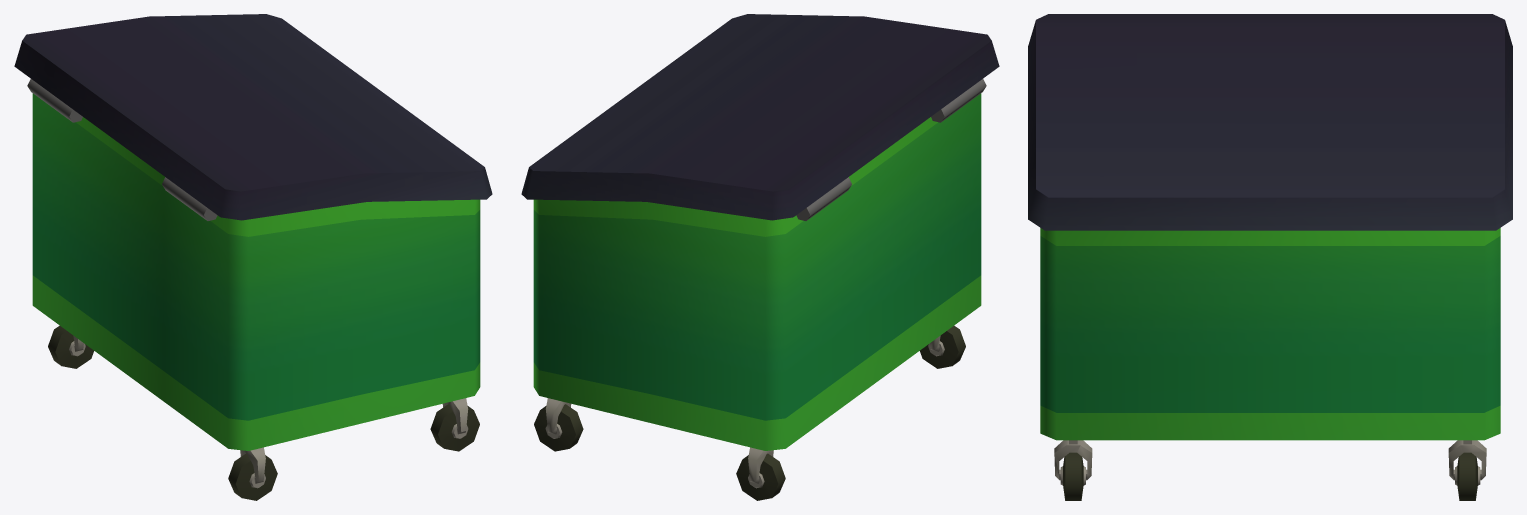
Rendered from BinG.fbx.
The picture shows the model from 3 angles, left to right: view 1: azimuth 30°, elevation 25°; view 2: azimuth 150°, elevation 25°; view 3: azimuth 270°, elevation 25°; orthographic projection. The views are drawn at different scales.
Visible parts, largest first — view 1: BinG, BinC_G; view 2: BinG, BinC_G; view 3: BinC_G, BinG.
Part boxes in pixels (x1,y1,x2,y2): BinG: (32, 93, 480, 500); BinC_G: (14, 14, 492, 220); BinG: (533, 93, 981, 500); BinC_G: (521, 14, 999, 220); BinC_G: (1028, 14, 1512, 230); BinG: (1040, 228, 1500, 500).
Bounding box in the file's own units: 96.14 × 110 × 135.
